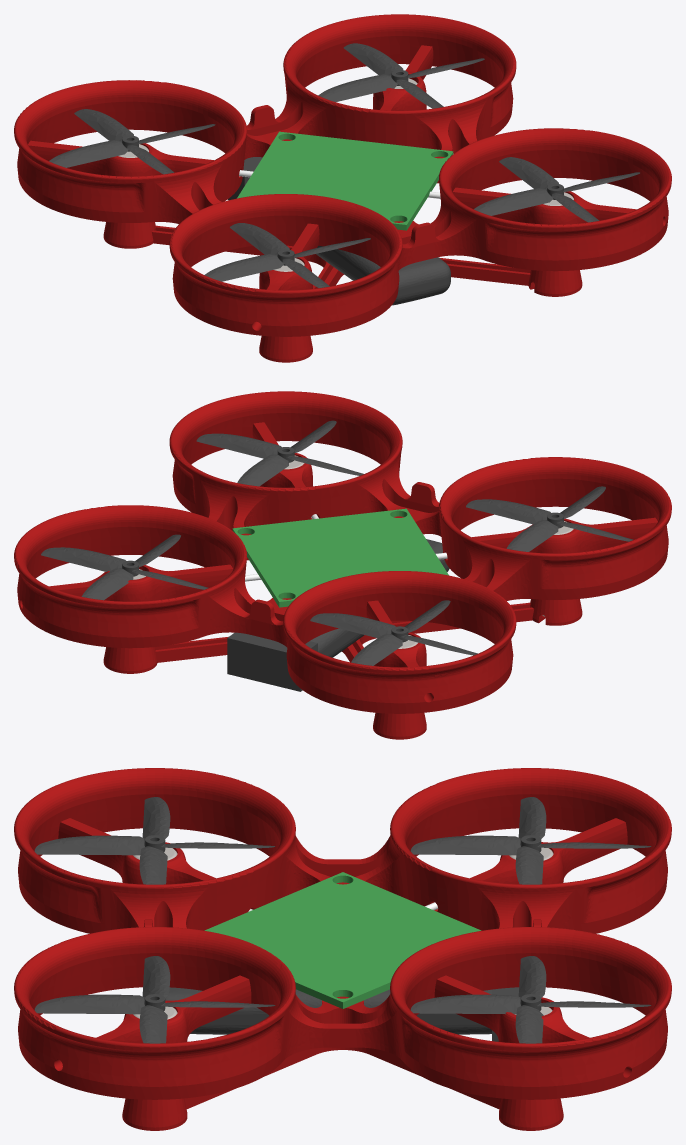
File: whoop65.glb
The picture shows the model from 3 angles, top to bottom: view 1: azimuth 30°, elevation 25°; view 2: azimuth 150°, elevation 25°; view 3: azimuth 270°, elevation 25°; orthographic projection. The views are drawn at different scales.
Parts seen in each view (by area): view 1: frame_dutos__0__m1, frame_dutos__0__m0, placa_aio__0__m0; view 2: frame_dutos__0__m1, frame_dutos__0__m0, placa_aio__0__m0; view 3: frame_dutos__0__m1, frame_dutos__0__m0, placa_aio__0__m0.
Part boxes in pixels (x1,y1,x2,y2): frame_dutos__0__m1: (14,14,671,362); frame_dutos__0__m0: (49,43,639,305); placa_aio__0__m0: (237,131,453,230); frame_dutos__0__m1: (14,391,671,739); frame_dutos__0__m0: (41,420,633,691); placa_aio__0__m0: (232,508,448,607); frame_dutos__0__m1: (14,768,671,1130); frame_dutos__0__m0: (34,797,651,1043); placa_aio__0__m0: (204,872,481,1008).
Size of the model in its own units: 0.0875 by 0.0193 by 0.0875.
